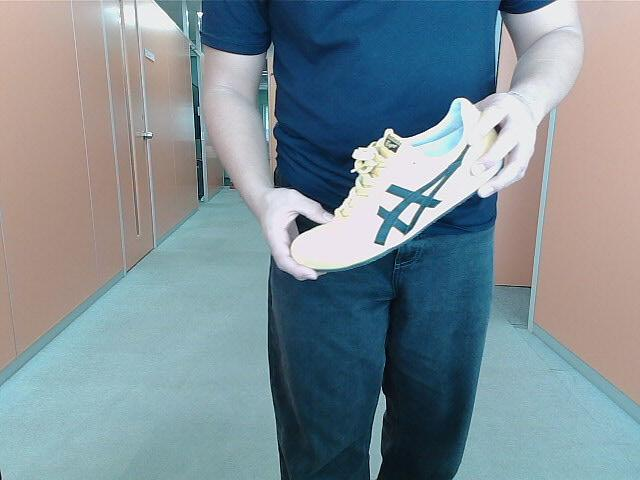Shoes: (290, 98, 502, 281)
